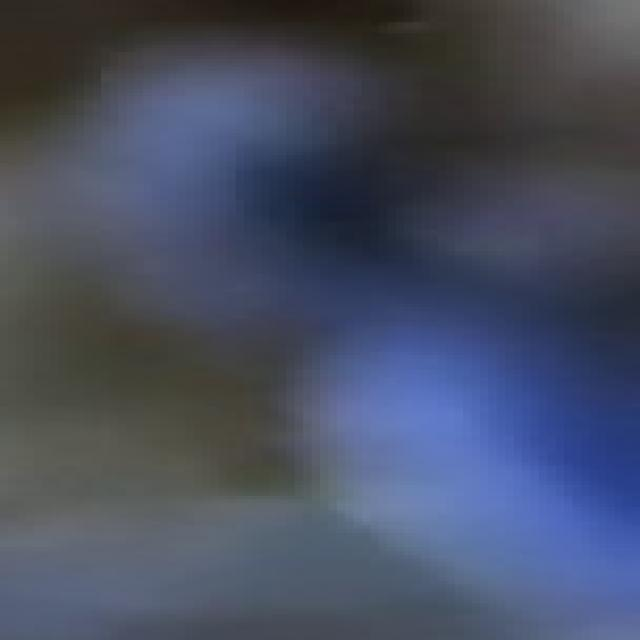fish: (1, 0, 632, 637)
